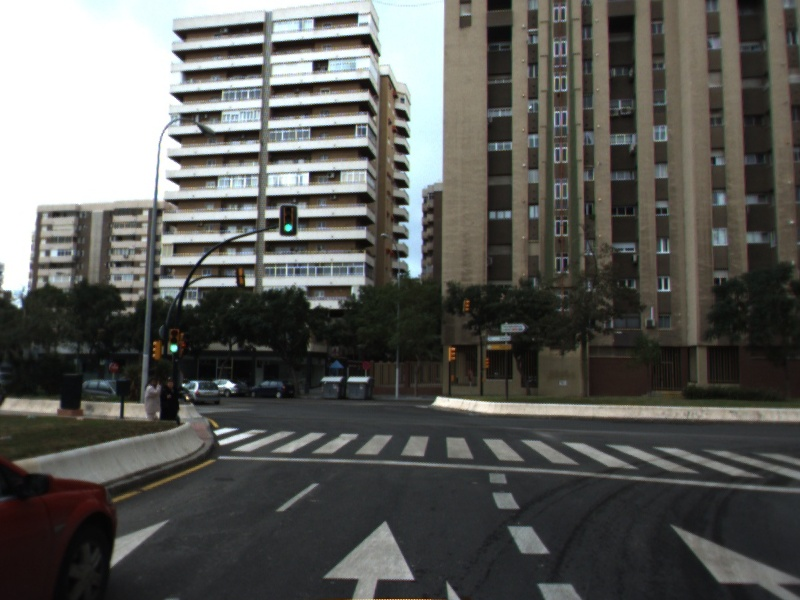STRAIGHT: (665, 519, 800, 600), (318, 516, 420, 600)
